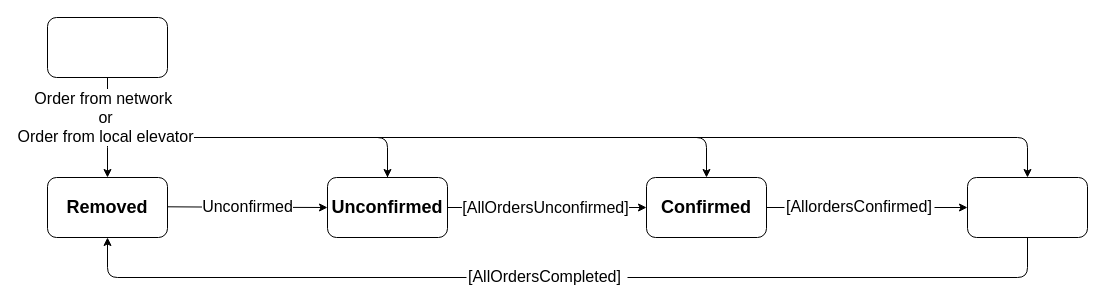
The diagram is 1105 pixels wide and 308 high, and some of its shapes have lost their labels. The shapes that lost their labels are listed below. From the top down, each one's centre as x and y in pixels, then its label:
At (x=107, y=47): "Unknown".
At (x=1027, y=207): "Completed".
